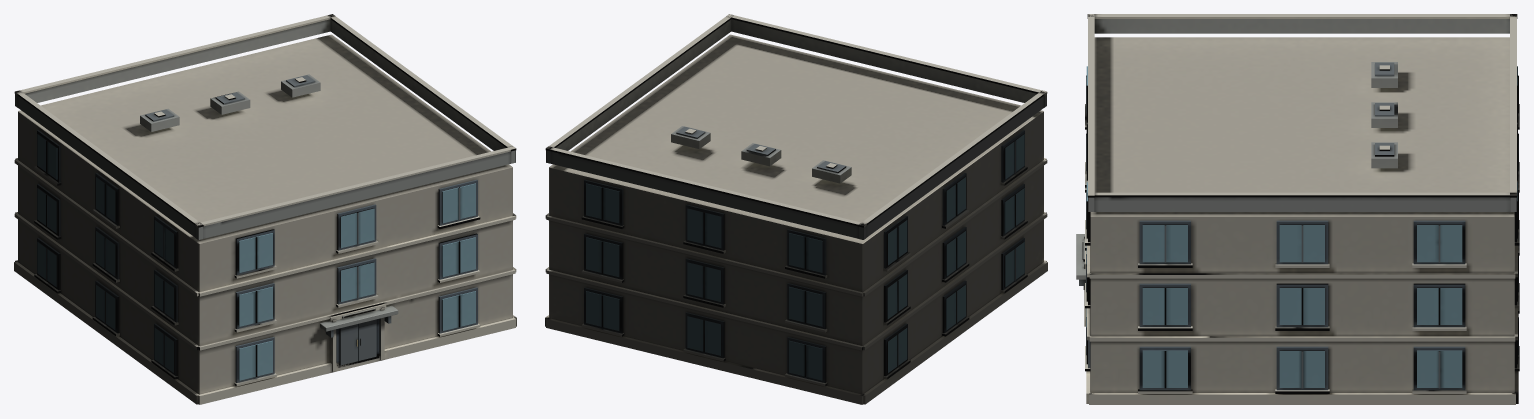
Rendered from 0-20261016-1900-ev066-r12-town-lotflagship_baked.glb.
3 renders of one model, left to right at view 1: azimuth 30°, elevation 25°; view 2: azimuth 150°, elevation 25°; view 3: azimuth 270°, elevation 25°, orthographic. The views are drawn at different scales.
Parts seen in each view (by area): view 1: SW_Town_LotFlagship; view 2: SW_Town_LotFlagship; view 3: SW_Town_LotFlagship.
Boxes of the visible parts, x1=… form: SW_Town_LotFlagship: x1=14, y1=14, x2=516, y2=404; SW_Town_LotFlagship: x1=545, y1=14, x2=1047, y2=404; SW_Town_LotFlagship: x1=1076, y1=14, x2=1519, y2=404.
Size of the model in its own units: 23.78 by 12.73 by 24.27.
1 material, 1 textured.
